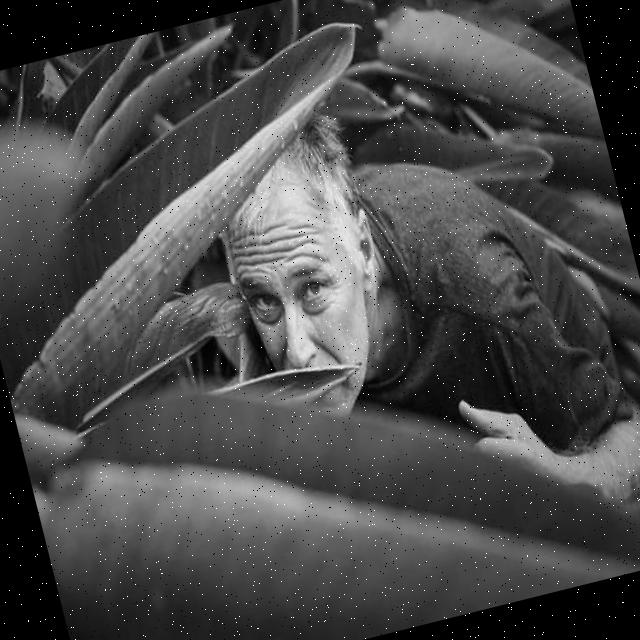Fear: (225, 187, 385, 403)
